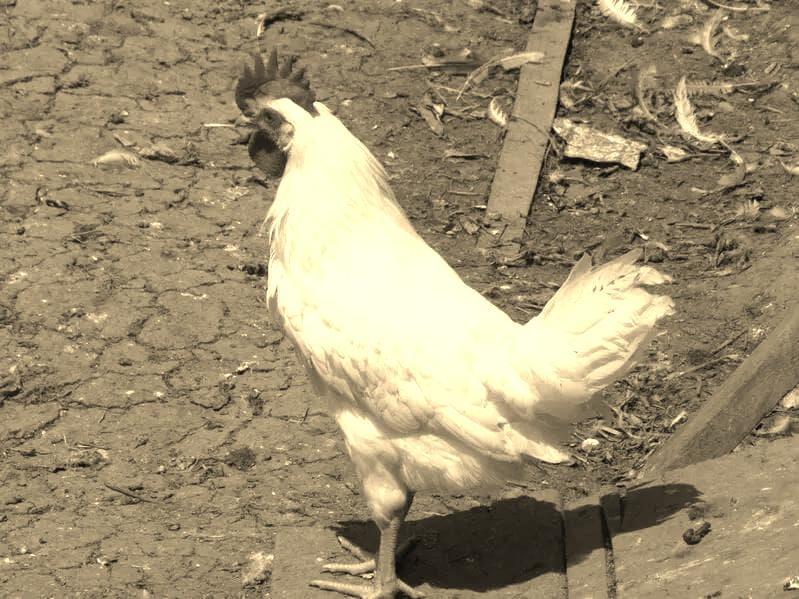Healthy: (223, 43, 687, 599)
